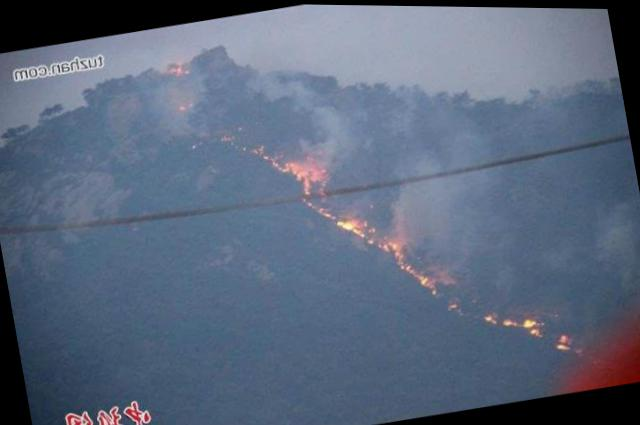fire: (290, 153, 326, 181), (338, 212, 367, 229), (526, 312, 545, 335), (380, 237, 402, 256), (554, 331, 574, 349), (418, 269, 437, 286), (501, 313, 524, 327), (302, 178, 314, 198), (483, 308, 500, 322), (401, 257, 416, 272), (282, 159, 297, 171)
